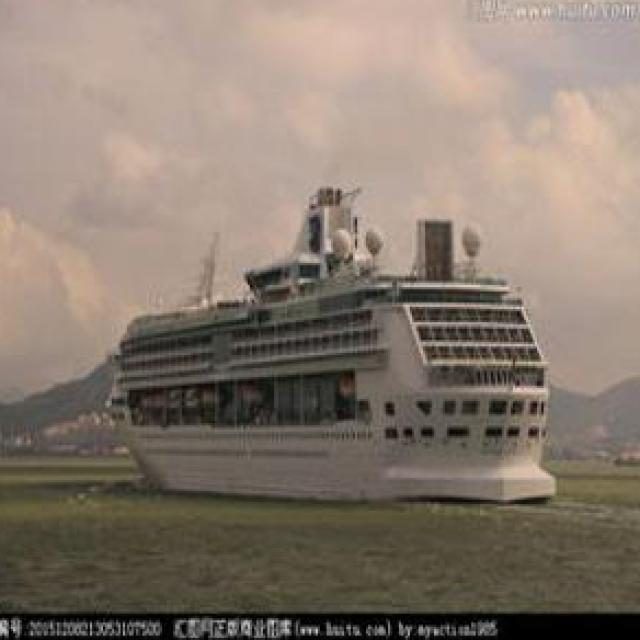passenger ship: (99, 183, 566, 509)
